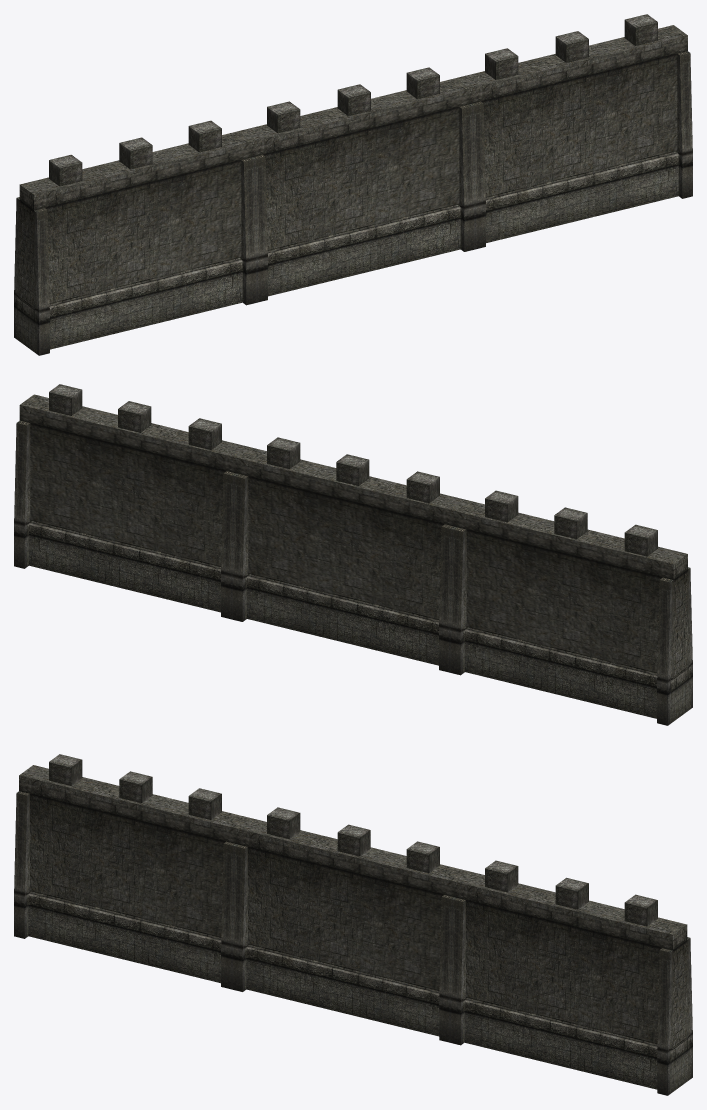
Rendered from ep-bigdam-04.glb.
The picture shows the model from 3 angles, top to bottom: view 1: azimuth 30°, elevation 25°; view 2: azimuth 150°, elevation 25°; view 3: azimuth 330°, elevation 25°; orthographic projection.
Visible parts, largest first — view 1: ep-bigdam-04; view 2: ep-bigdam-04; view 3: ep-bigdam-04.
Part boxes in pixels (x1=…): ep-bigdam-04: x1=14, y1=14, x2=692, y2=355; ep-bigdam-04: x1=14, y1=384, x2=692, y2=725; ep-bigdam-04: x1=14, y1=754, x2=692, y2=1095.
Size of the model in its own units: 30 by 7.71 by 2.
Materials: 1 (1 with a texture image).
